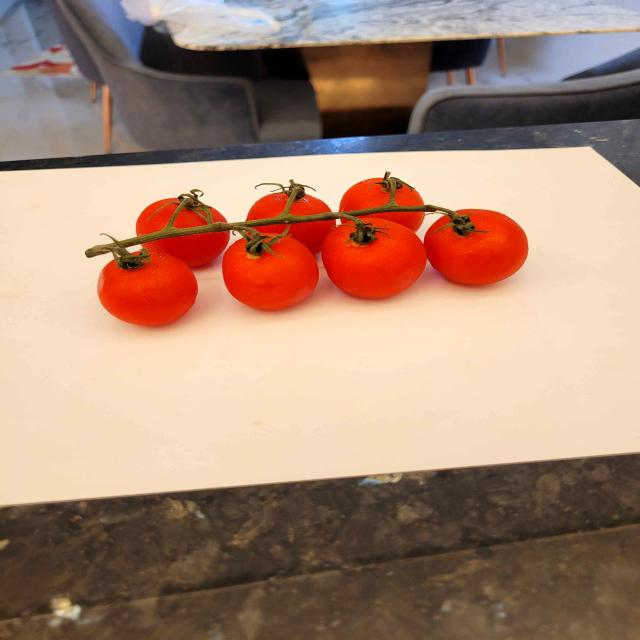ripe2: (321, 218, 427, 299), (424, 209, 528, 286), (97, 250, 198, 327), (222, 236, 319, 310), (143, 231, 229, 268), (339, 178, 390, 212), (288, 220, 336, 256), (136, 198, 179, 235), (174, 203, 225, 228), (246, 193, 288, 220), (370, 212, 424, 231), (291, 195, 330, 215), (396, 183, 424, 205), (255, 225, 286, 234)
